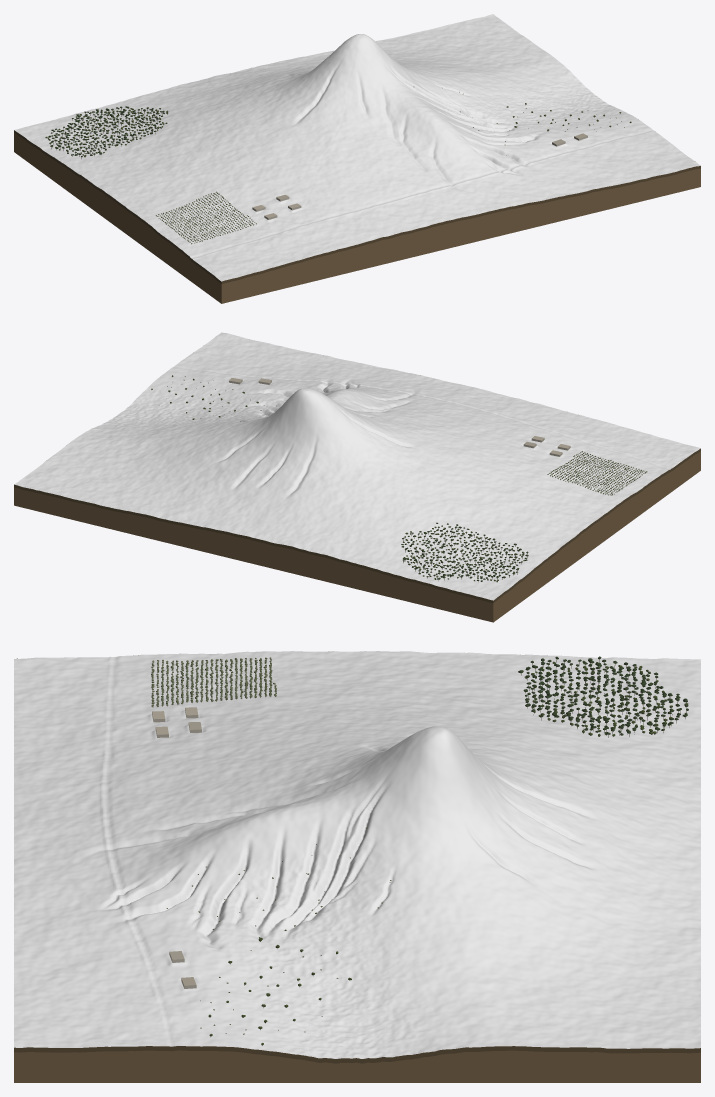
The model's file is terrain.glb.
3 views of the same model, one above another, from view 1: azimuth 30°, elevation 25°; view 2: azimuth 150°, elevation 25°; view 3: azimuth 270°, elevation 25° (orthographic). The views are drawn at different scales.
Visible parts, largest first — view 1: Terrain, Walls, Trees; view 2: Terrain, Walls, Trees; view 3: Terrain, Walls, Trees, Buildings.
Part boxes in pixels (x1,y1,x2,y2): Terrain: (14, 14, 700, 281); Walls: (14, 130, 700, 303); Trees: (45, 86, 631, 244); Terrain: (14, 332, 700, 600); Walls: (14, 448, 700, 622); Trees: (151, 375, 647, 582); Terrain: (14, 651, 700, 1058); Walls: (14, 658, 700, 1082); Trees: (151, 656, 688, 1045); Buildings: (152, 707, 201, 988).
Size of the model in its own units: 4 by 0.8743 by 3.
